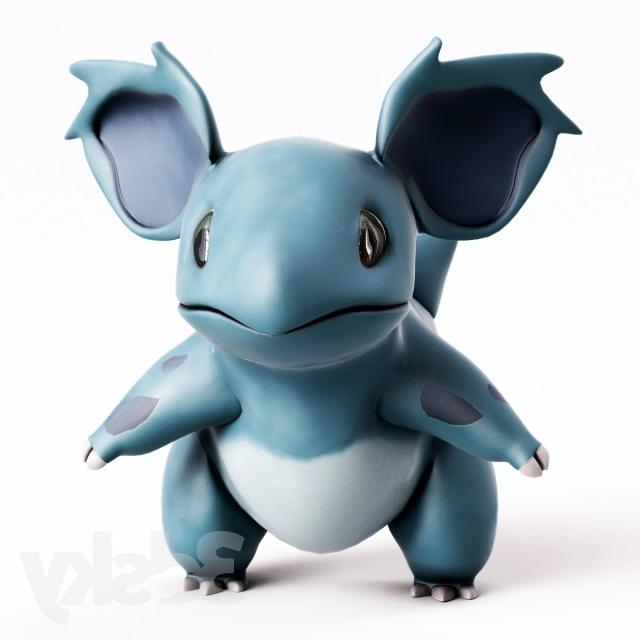Nidorina: (37, 29, 575, 612)
